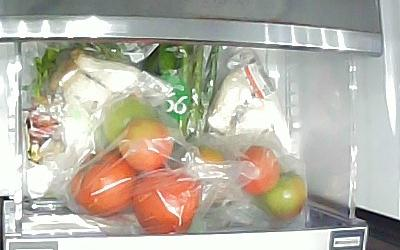tomato_vinyl: (69, 148, 139, 217), (130, 166, 200, 233), (101, 92, 158, 148), (117, 117, 174, 171), (259, 170, 306, 221), (234, 144, 281, 194), (180, 144, 226, 167)
